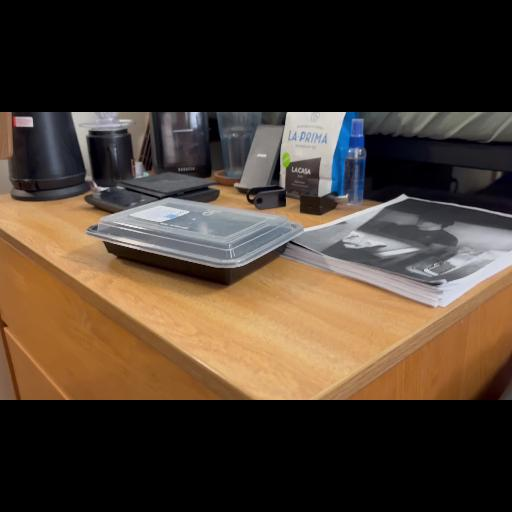rigid_plastic_container: (80, 196, 314, 274)
